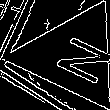N_NW: (36, 27, 108, 86)
